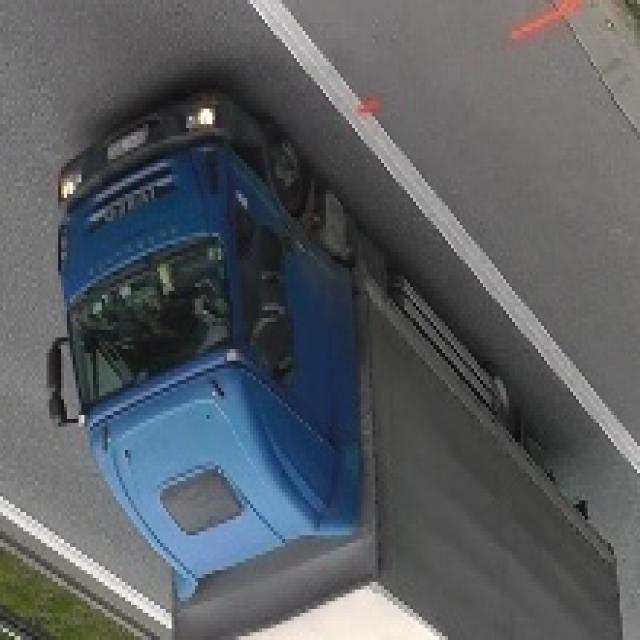truck: (44, 85, 616, 640)
